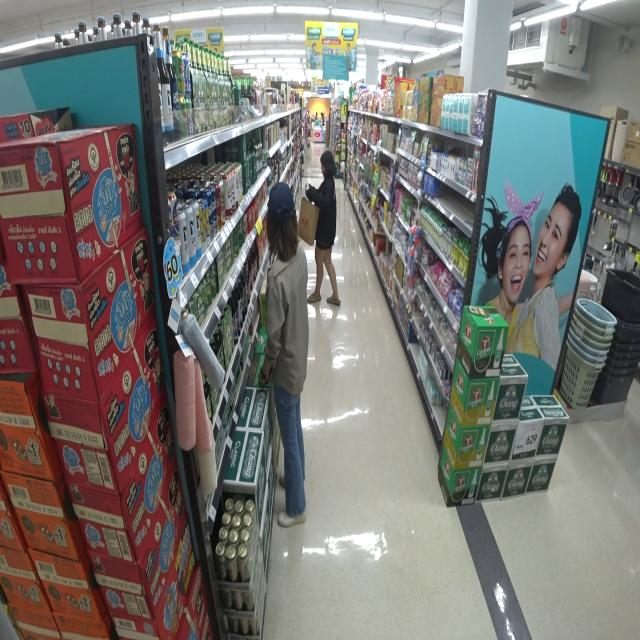shoplifting: (300, 153, 340, 303)
